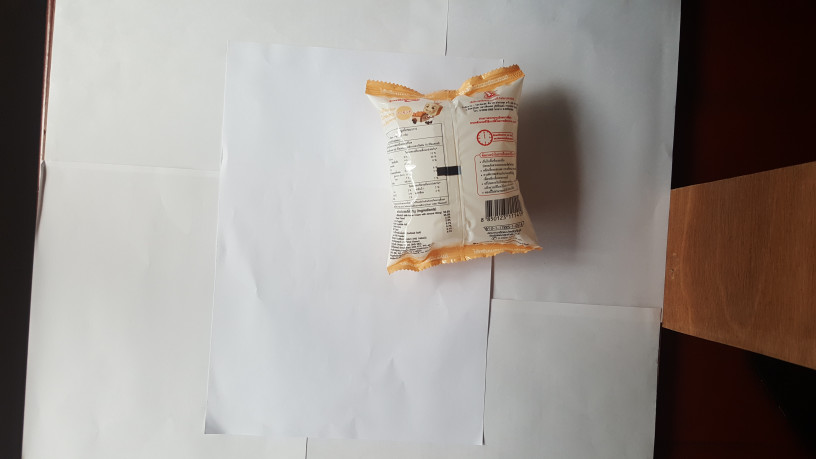farmhouse-sweetsandwich-almond: (358, 63, 547, 281)
